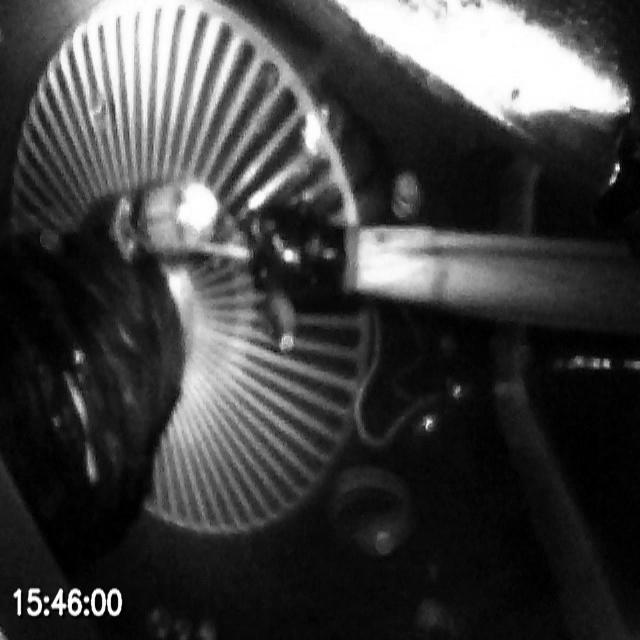head: (116, 179, 220, 260)
